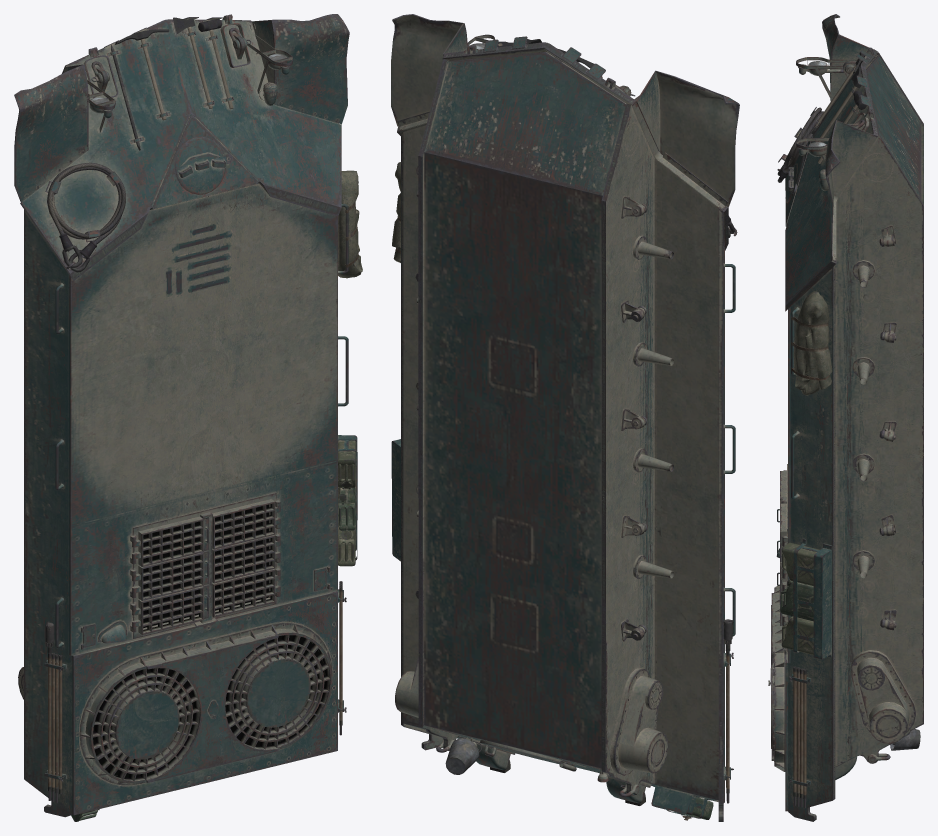
Rendered from Hull.glb.
3 views of the same model, side by side, from view 1: azimuth 30°, elevation 25°; view 2: azimuth 150°, elevation 25°; view 3: azimuth 270°, elevation 25° (orthographic). The views are drawn at different scales.
Visible parts, largest first — view 1: set_0_group_0, set_0_group_1; view 2: set_0_group_0, set_0_group_1; view 3: set_0_group_0, set_0_group_1.
Boxes of the visible parts, x1,y1,x2,y2 form: set_0_group_0: (14, 14, 349, 817); set_0_group_1: (44, 170, 362, 821); set_0_group_0: (391, 14, 739, 821); set_0_group_1: (391, 162, 733, 820); set_0_group_0: (768, 14, 923, 821); set_0_group_1: (780, 291, 920, 808).
Size of the model in its own units: 3.35 by 7.1 by 1.43.
Materials: 2 (2 with a texture image).
